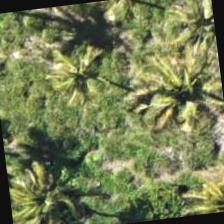Kelapa_Sawit: (120, 31, 220, 132), (21, 12, 122, 112), (4, 144, 94, 223), (150, 0, 219, 63), (162, 150, 223, 219)
